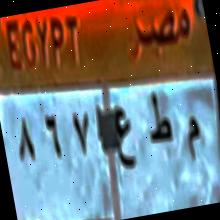6: (40, 109, 70, 159)
7: (70, 107, 96, 155)
8: (12, 114, 38, 162)
Taa: (141, 86, 177, 154)
ain: (109, 101, 142, 179)
meem: (177, 104, 210, 170)
